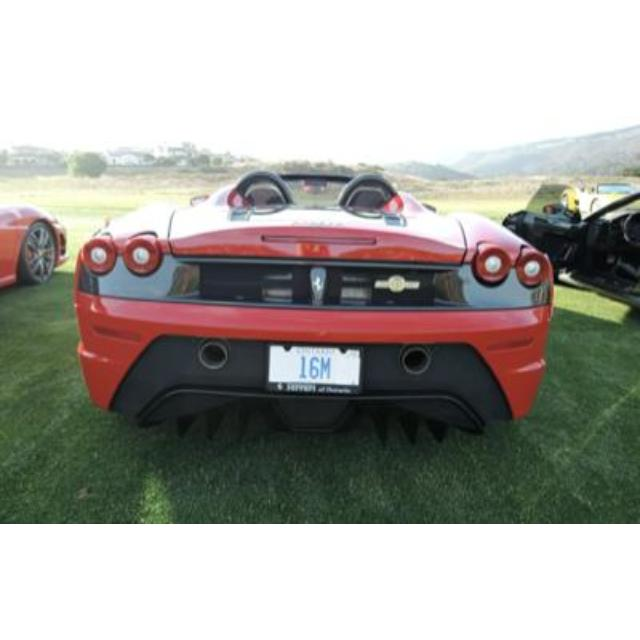car: (70, 170, 552, 438)
plate: (266, 343, 358, 397)
